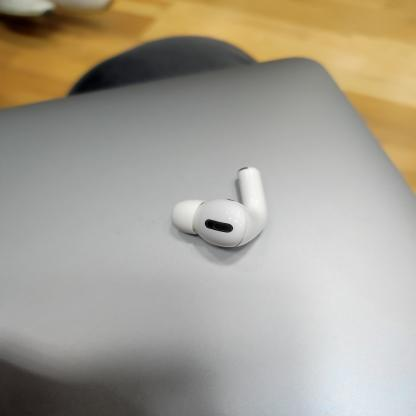Airpods: (169, 163, 282, 253)
